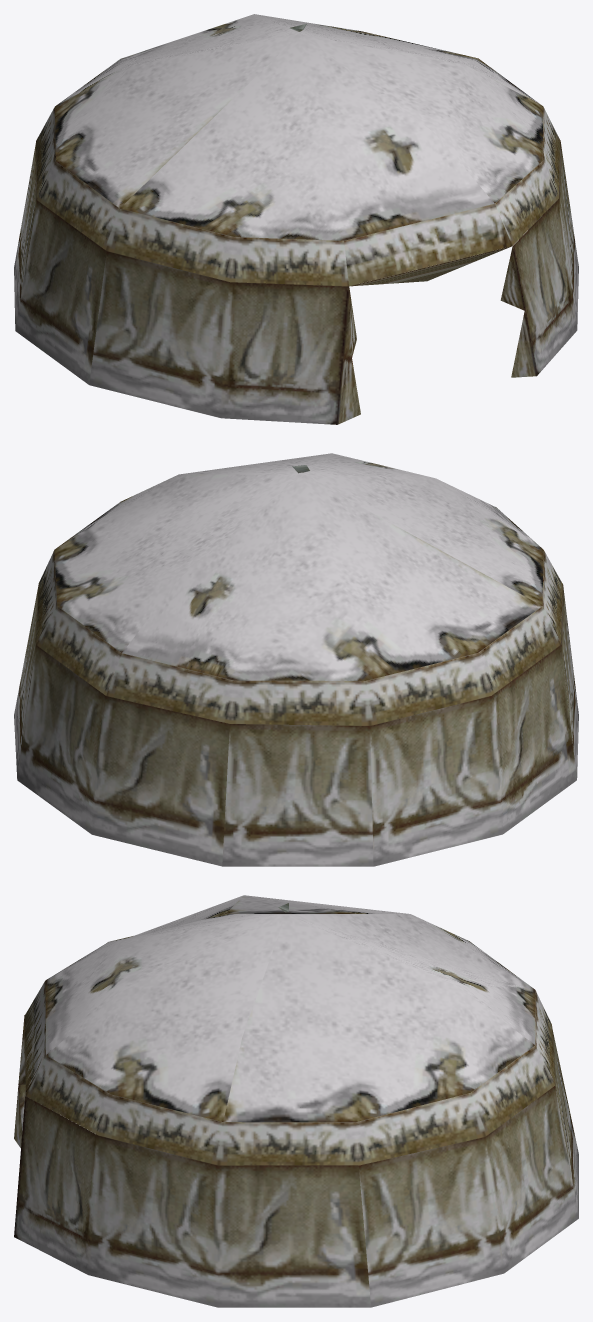
Rendered from general_obj_tent01_lod_01.glb.
3 renders of one model, top to bottom at view 1: azimuth 30°, elevation 25°; view 2: azimuth 150°, elevation 25°; view 3: azimuth 270°, elevation 25°, orthographic.
Visible parts, largest first — view 1: Mesh02; view 2: Mesh02; view 3: Mesh02.
Boxes of the visible parts, bbox=[...] form: Mesh02: bbox=[14, 14, 578, 424]; Mesh02: bbox=[14, 453, 578, 866]; Mesh02: bbox=[14, 895, 578, 1307].
Size of the model in its own units: 11.36 by 6.14 by 11.26.
1 material, 1 textured.
